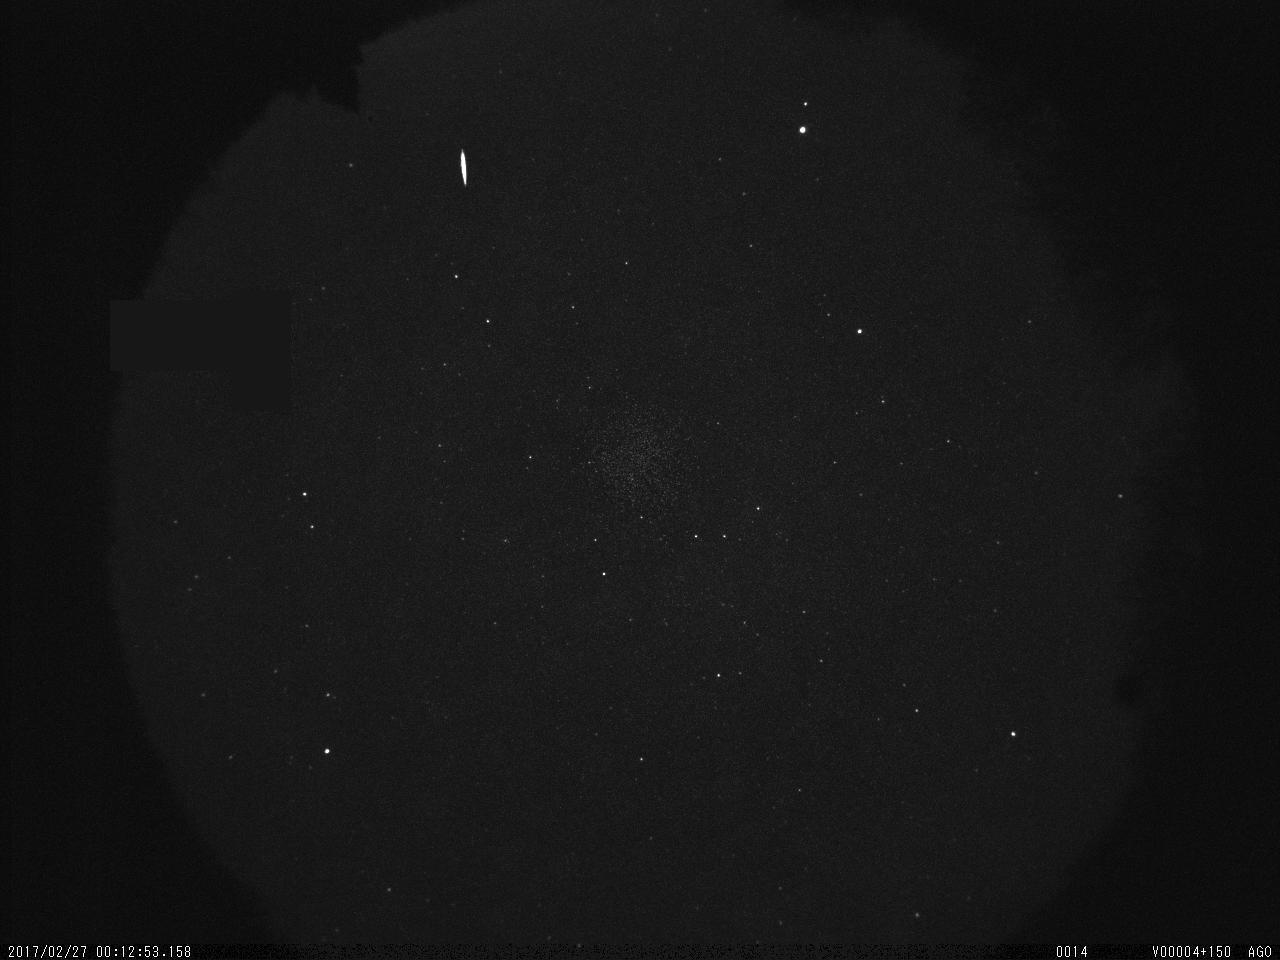meteor: (454, 143, 478, 189)
